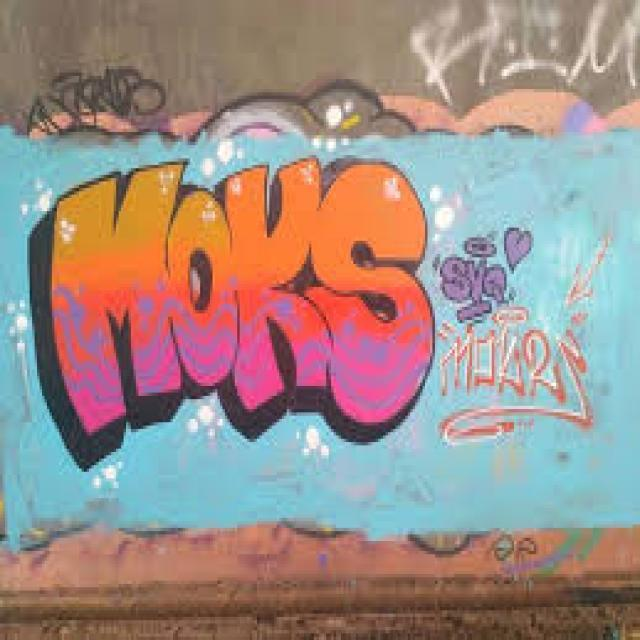-: (29, 161, 437, 474), (441, 226, 612, 443), (412, 0, 638, 100), (190, 81, 534, 137), (27, 65, 167, 141)
